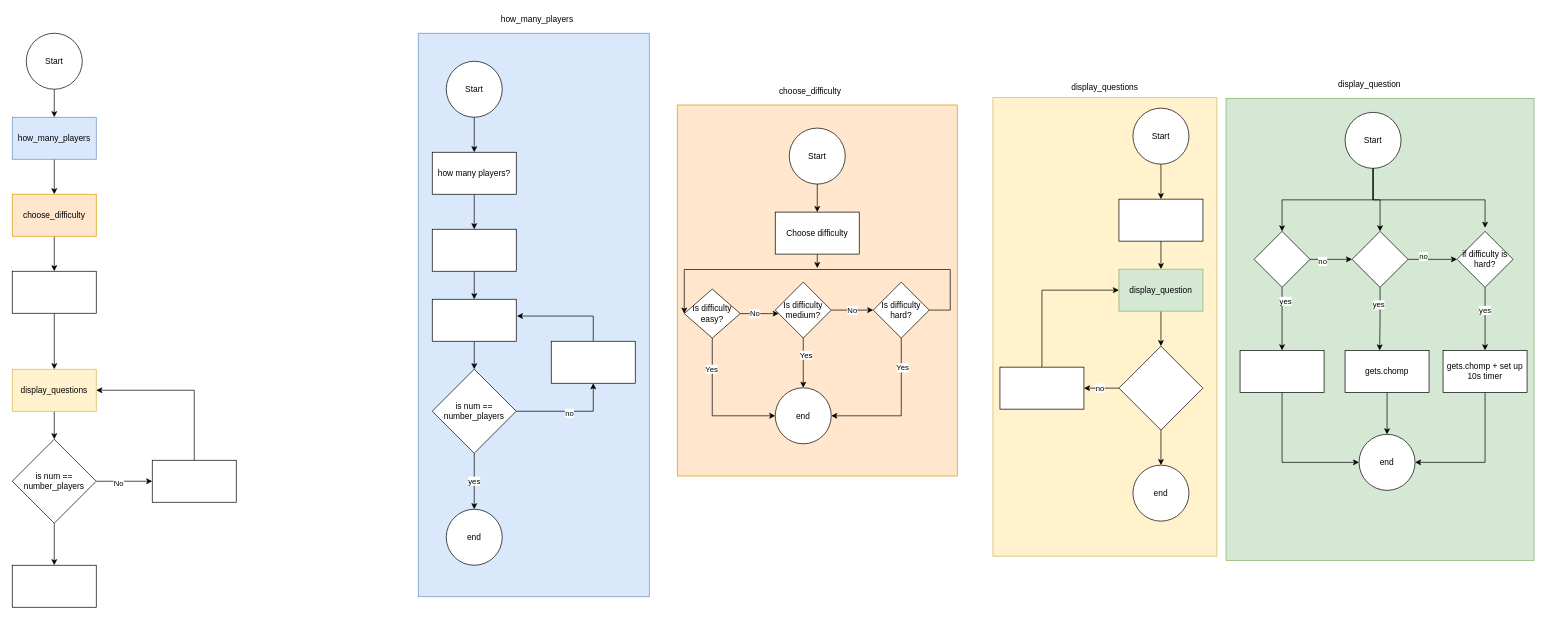
The diagram is 1546 pixels wide and 620 high, and some of its shapes have lost their labels. Here are the shapes that lost their labels. From the top down, the centre of each, then its label:
(1160,219): for question in 1..10
(474,250): for num in number_players
(1281,259): if difficulty is easy?
(1379,259): if difficulty is medium?
(54,292): for num in players
(474,320): enter name
(593,362): increment num by 1
(1281,371): prompt multi choice answers
(1041,387): increment
(1160,387): is question 10?
(194,481): Increment by one
(54,586): display score/leader board
